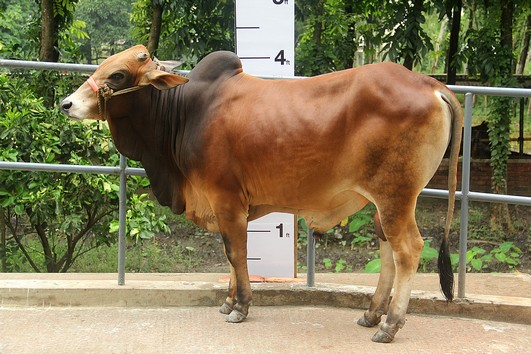cow: (58, 37, 460, 341)
